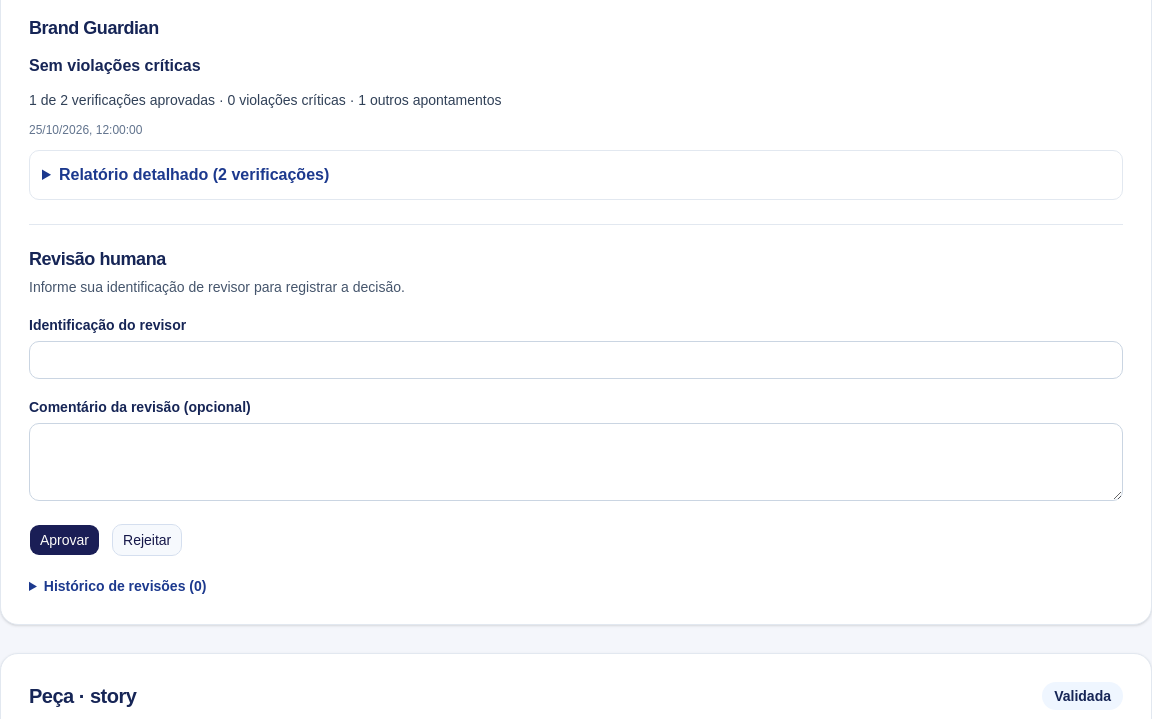
Scenario: reconsulta o estado em 409 e não repete a revisão automaticamente
(page scrolled)
Type "Paulo" into the field labelled "Identificação do revisor". click: (576, 360)
box: [29,341,1123,379]
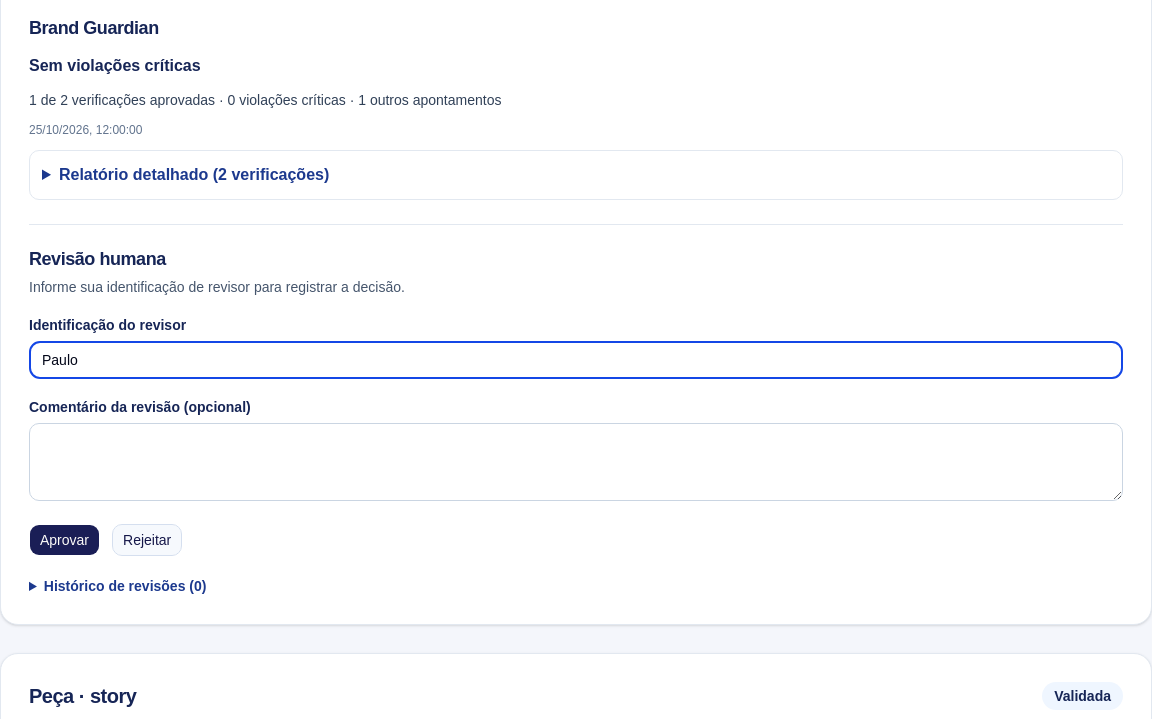
Click the button "Aprovar". click: (64, 540)
box: [29,524,100,556]
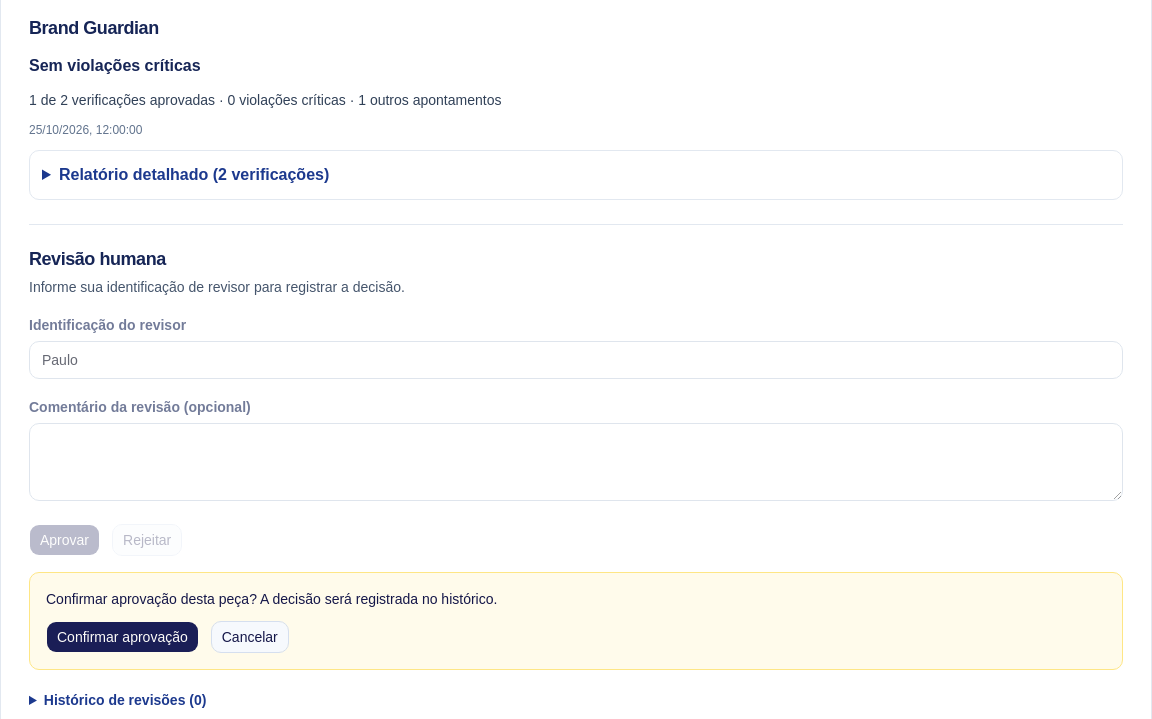
Click the button "Confirmar aprovação". click: (122, 637)
box: [46,621,199,653]
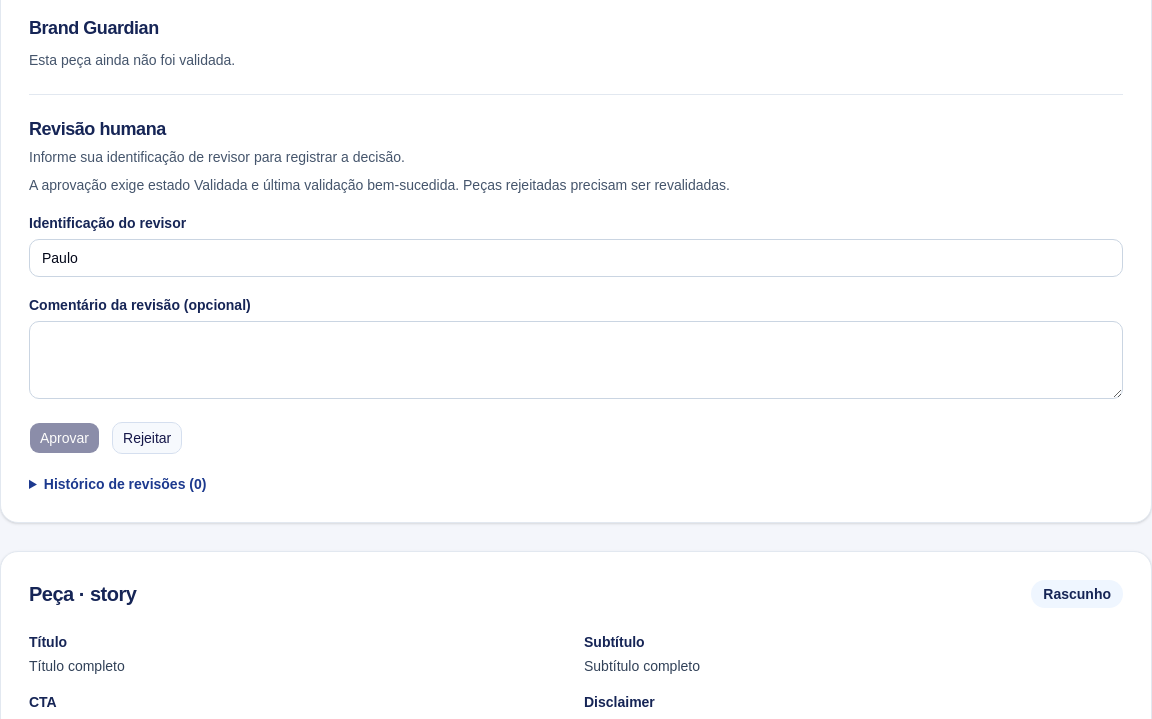
expect the button "Aprovar" is disabled: met, box [29,422,100,454]
